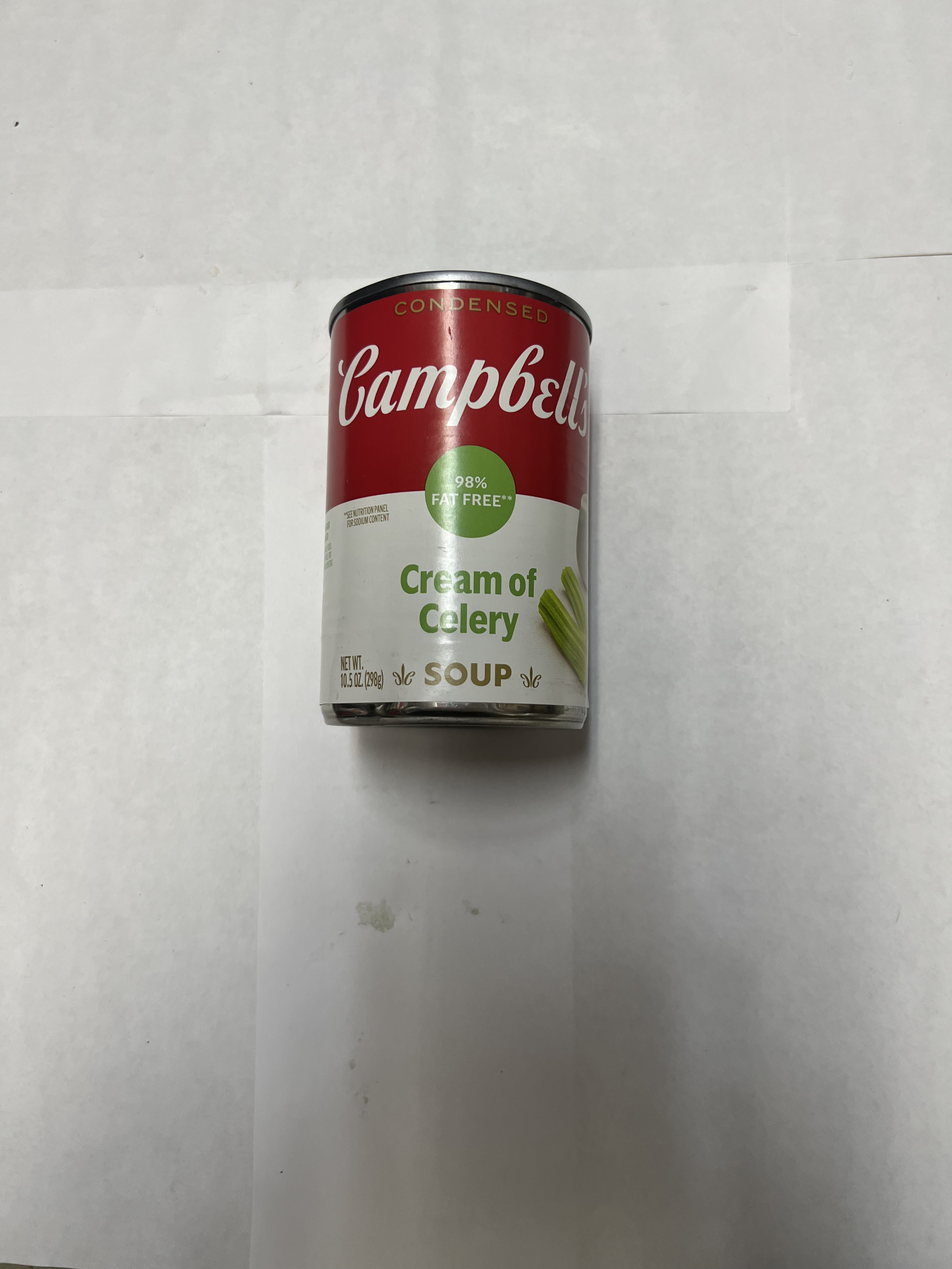packaged: (317, 266, 599, 733)
